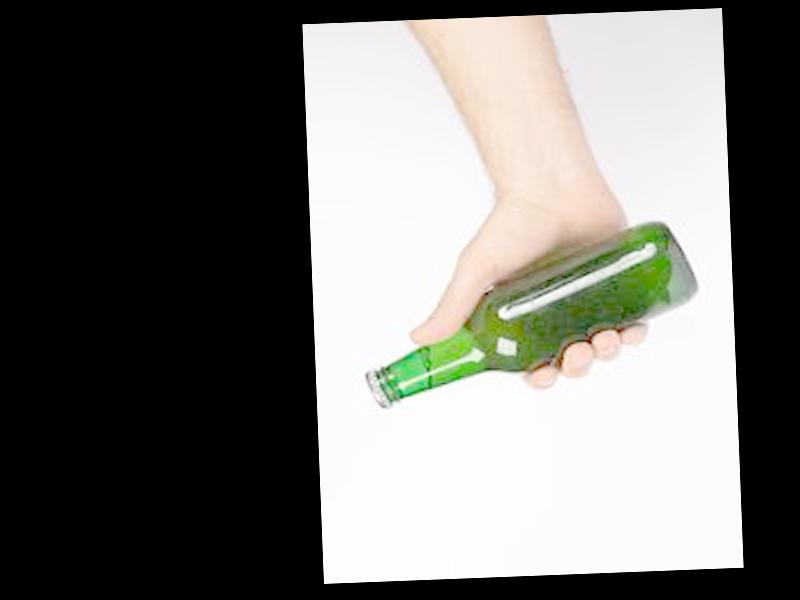Beer: (358, 219, 698, 408)
